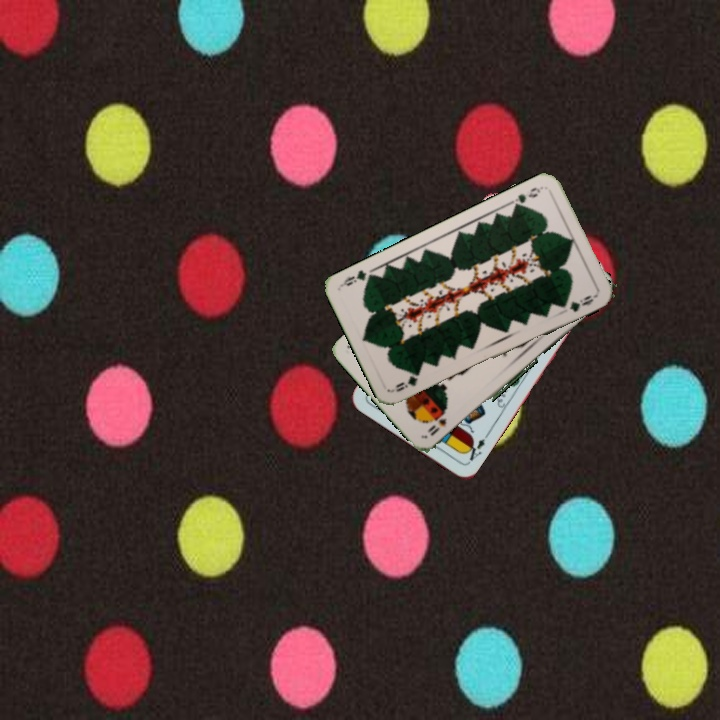EA: (460, 434, 488, 466)
G9: (507, 183, 545, 211), (389, 370, 423, 395)
SO: (426, 414, 450, 439)
